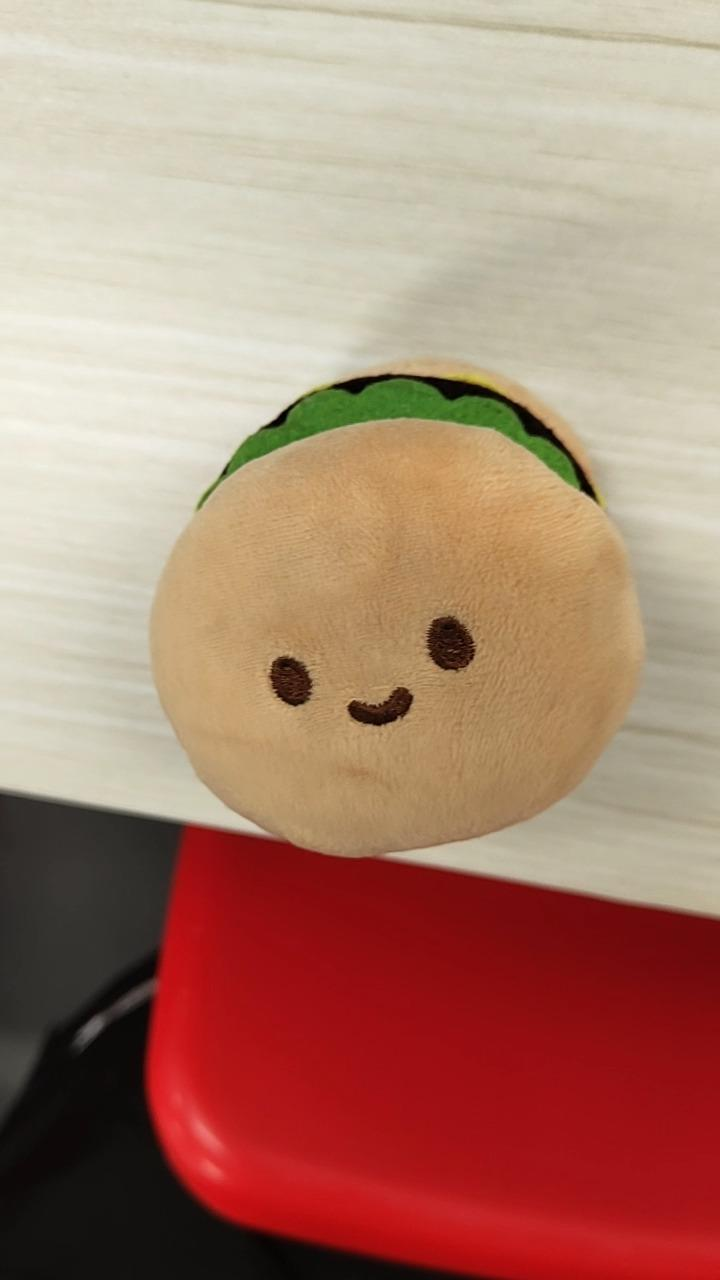hamburger: (147, 355, 645, 860)
